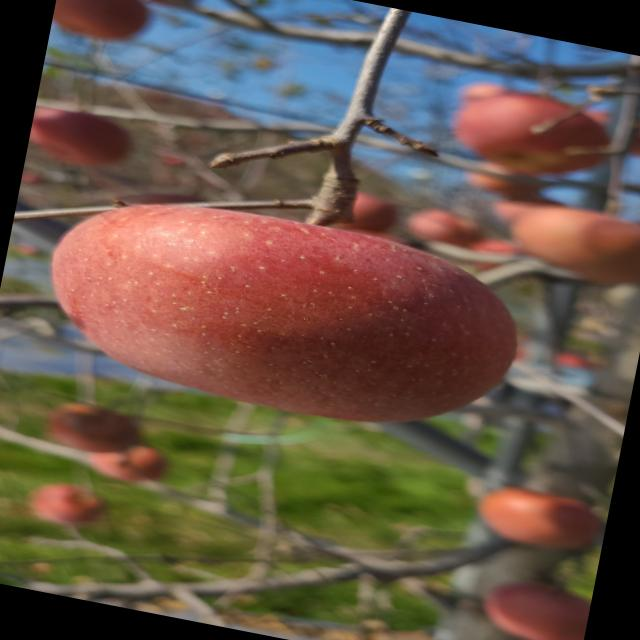fresh: (5, 156, 555, 466)
